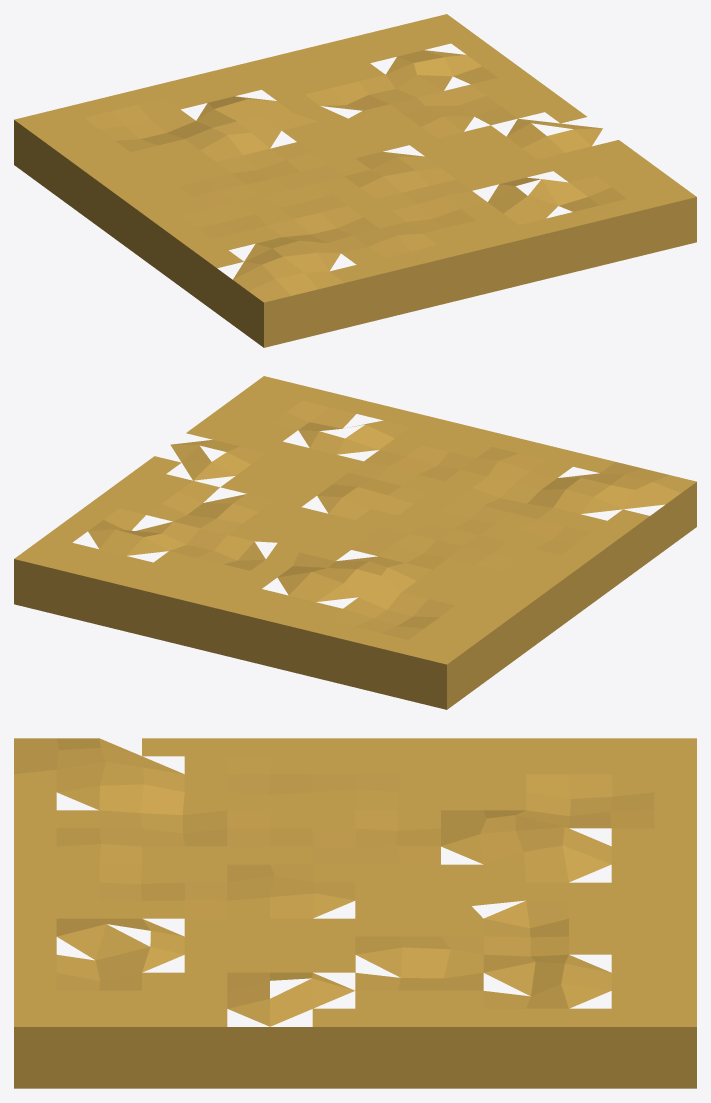
The model's file is Wasteland_clear.glb.
3 views of the same model, one above another, from view 1: azimuth 30°, elevation 25°; view 2: azimuth 150°, elevation 25°; view 3: azimuth 270°, elevation 25° (orthographic). The views are drawn at different scales.
Visible parts, largest first — view 1: Cube; view 2: Cube; view 3: Cube.
Part boxes in pixels (x1,y1,x2,y2): Cube: [14, 14, 696, 347]; Cube: [14, 376, 696, 709]; Cube: [14, 738, 696, 1088].
Size of the model in its own units: 20 by 2.64 by 20.
